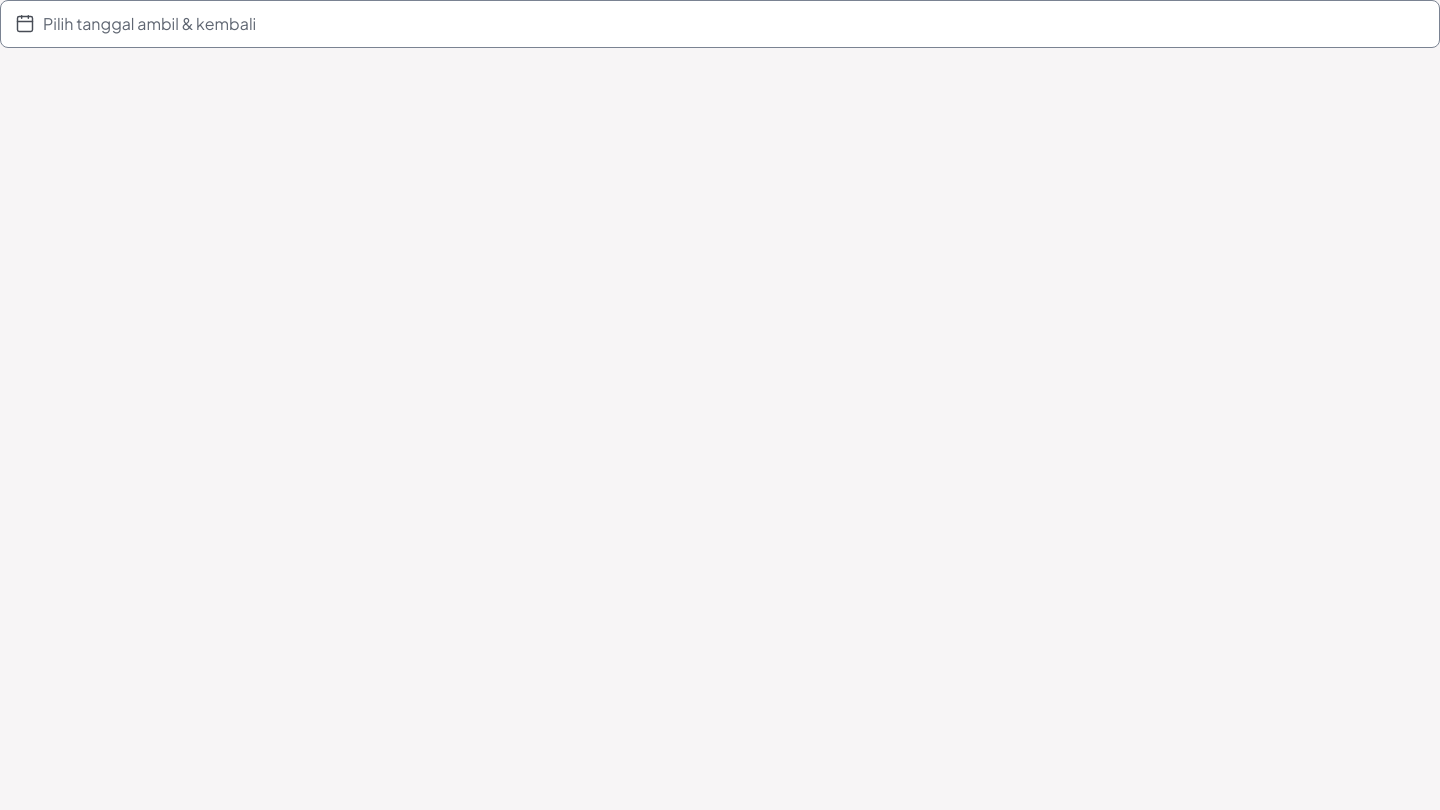
Scenario: DateRangePicker › disables dates before minDate and listed dates
Later steps or results of the test are not shown.
Click the button "Pilih tanggal ambil & kembali" at (150, 24), box [0,0,1439,48]
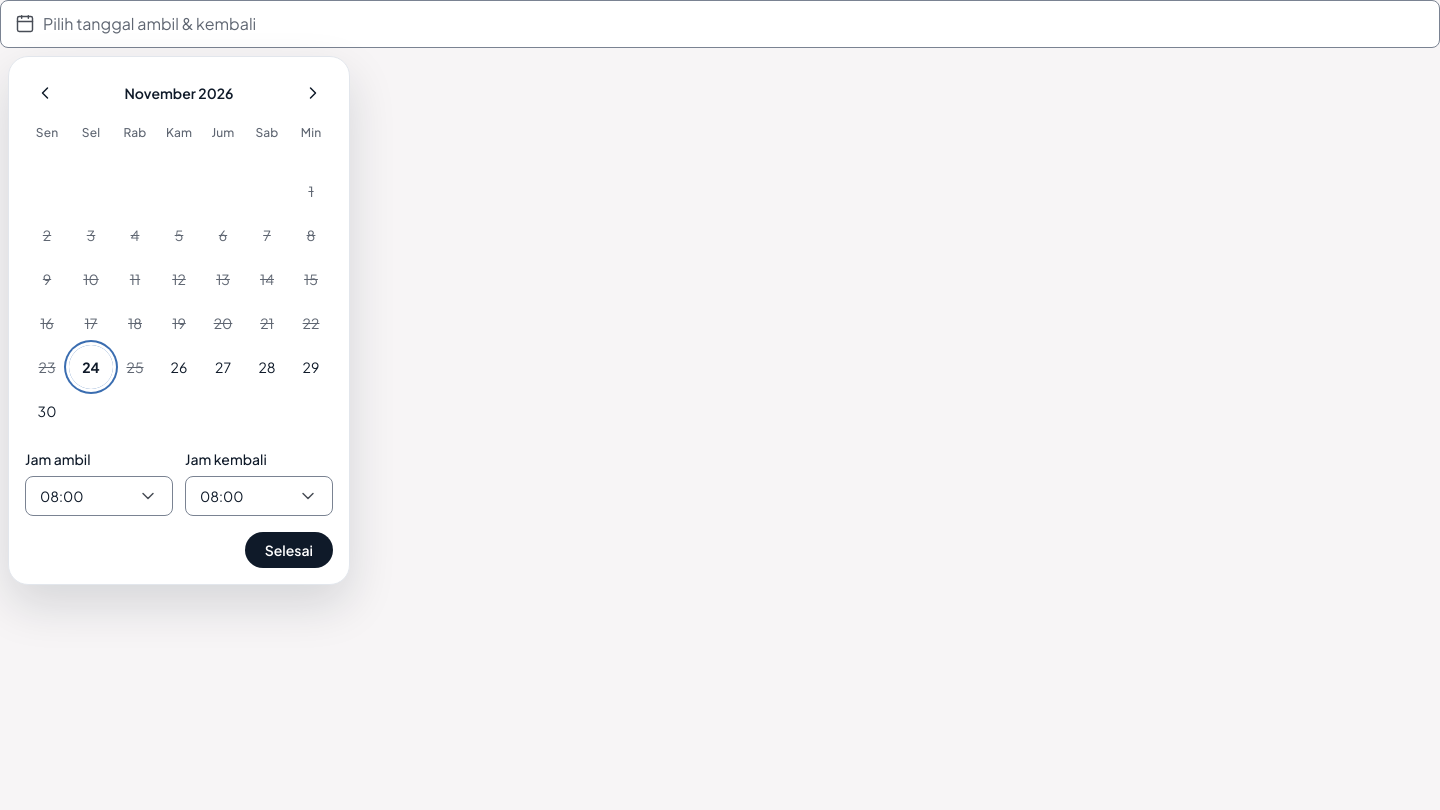
Check: the button named "23 November 2026" is disabled, box [25,345,69,389]
Check: the button named "25 November 2026" is disabled, box [113,345,157,389]
Check: the button named "24 November 2026" is enabled, box [69,345,113,389]
